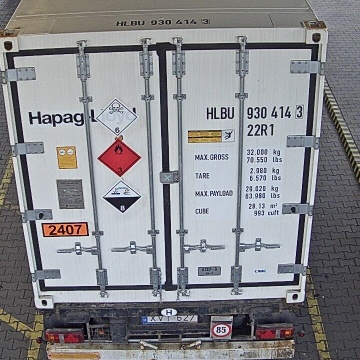serial_id: (207, 105, 304, 119)
